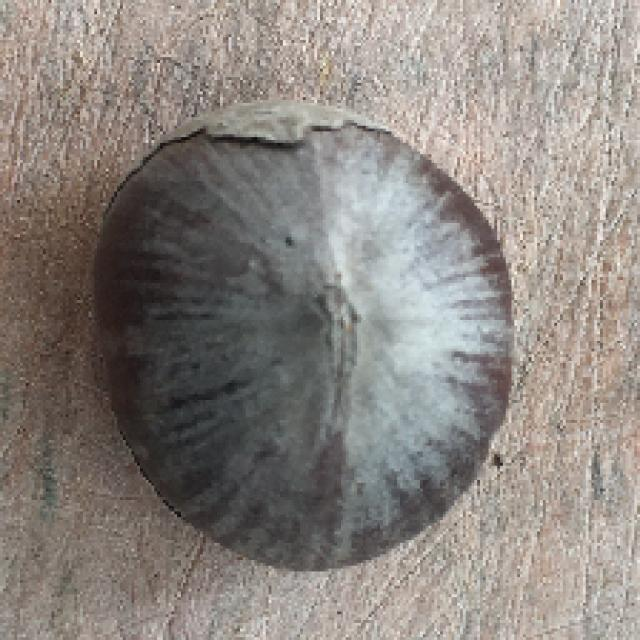DamagedHazelnut: (88, 100, 523, 570)
